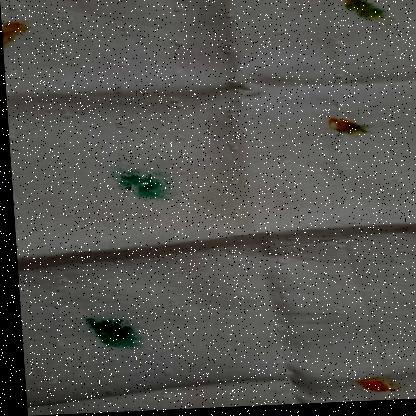spot: (79, 310, 141, 353), (343, 0, 403, 39), (108, 168, 173, 202), (348, 376, 411, 403), (321, 110, 369, 144), (1, 15, 34, 46)
